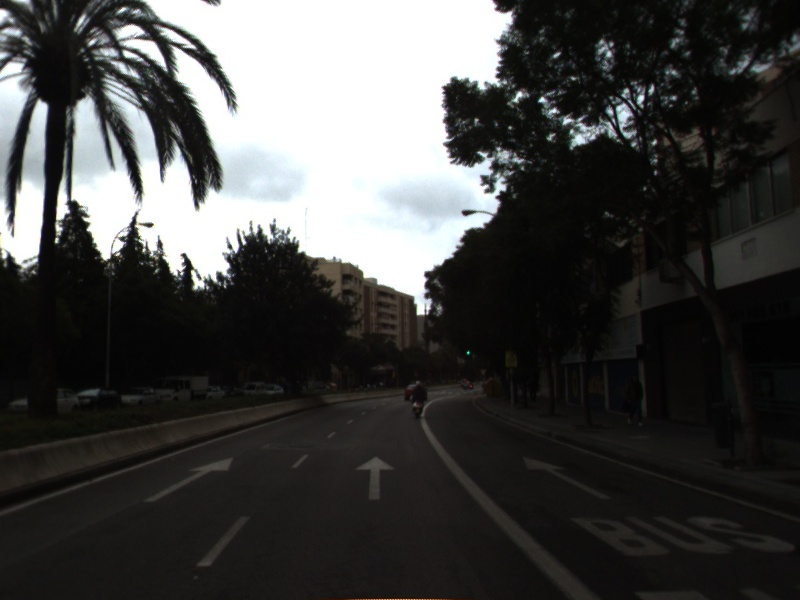STRAIGHT: (142, 454, 237, 504), (521, 454, 613, 501), (352, 454, 397, 502)
